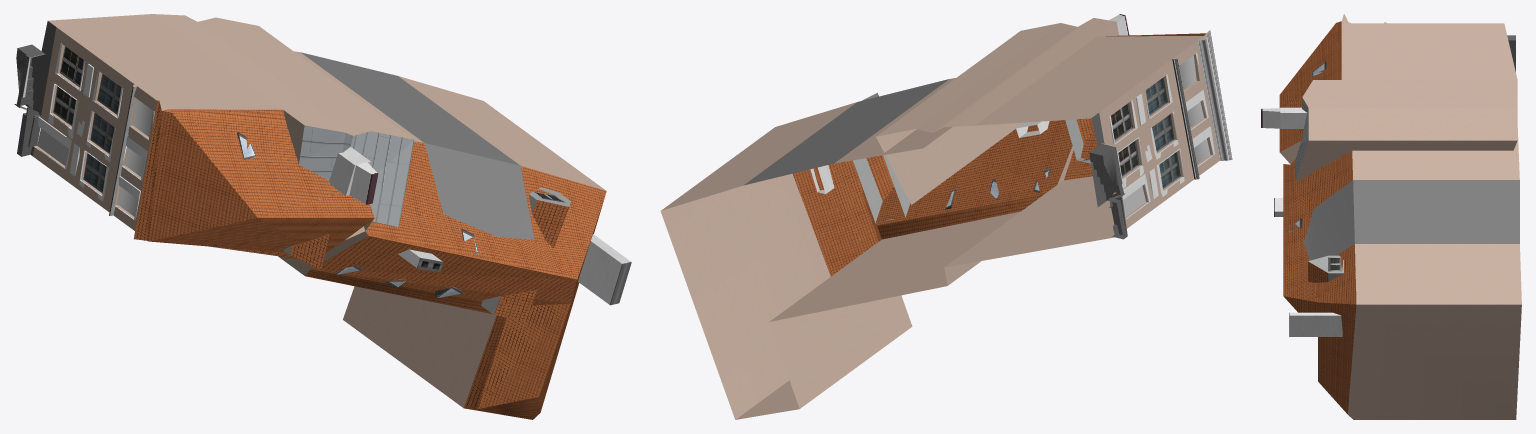
The model's file is Kullassepa_7-origo.obj.
The picture shows the model from 3 angles, left to right: view 1: azimuth 30°, elevation 25°; view 2: azimuth 150°, elevation 25°; view 3: azimuth 270°, elevation 25°; orthographic projection. The views are drawn at different scales.
Visible parts, largest first — view 1: Kullassepa_7; view 2: Kullassepa_7; view 3: Kullassepa_7.
Part boxes in pixels (left/top/right/bottom): Kullassepa_7: left=14, top=14, right=631, bottom=419; Kullassepa_7: left=660, top=14, right=1232, bottom=419; Kullassepa_7: left=1261, top=14, right=1521, bottom=419.
Size of the model in its own units: 26.56 by 22 by 18.54.
